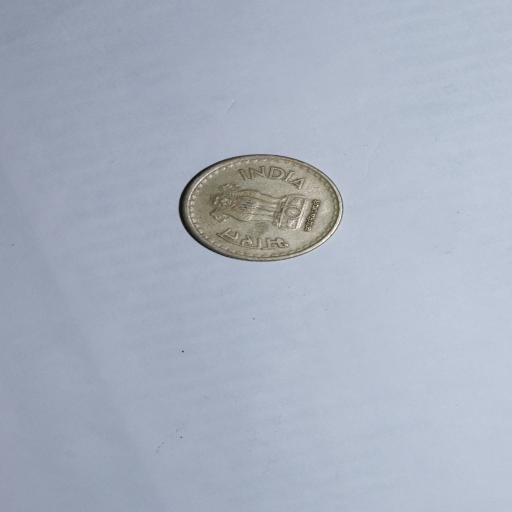rupee5: (172, 153, 348, 267)
